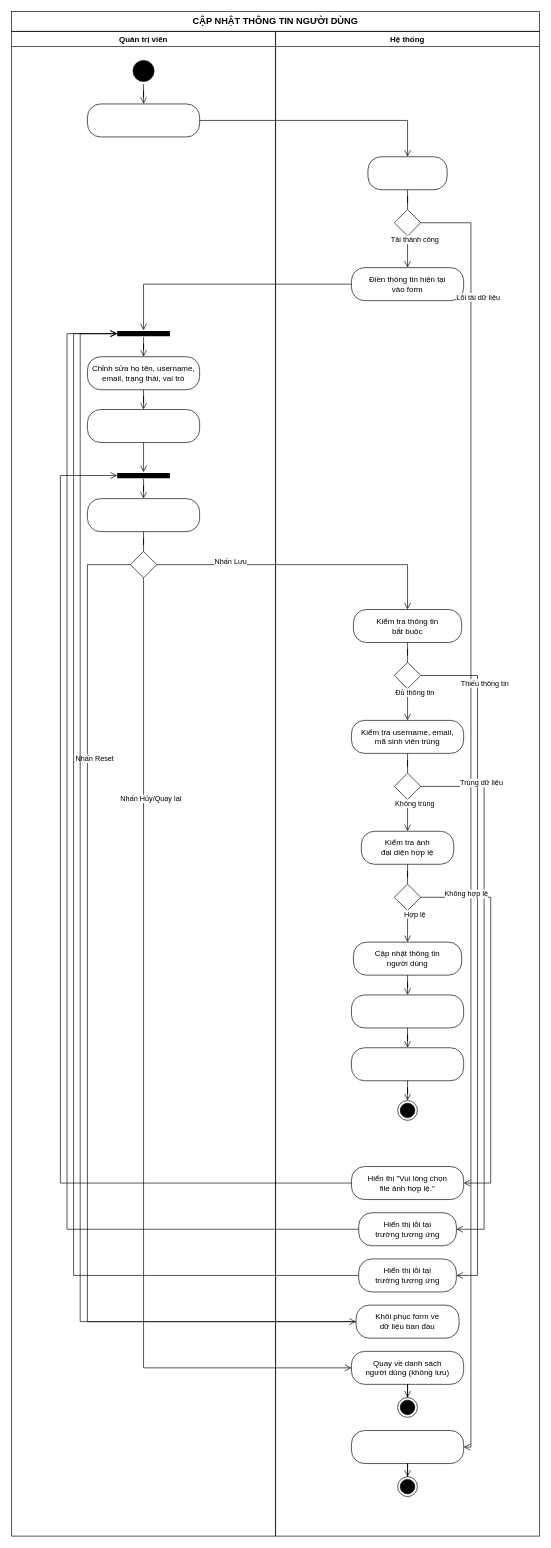
Some shapes in this 551 by 1548 pixel diagram are drawn without their labels. Here are the shapes that lost their labels. From the top down, the centre of each, then its label:
(143,120): Nhấn "Sửa" trong menu hành động của người dùng
(407,173): Tải dữ liệu người dùng
(143,426): Nhập mật khẩu mới nếu cần đổi mật khẩu
(143,515): Chỉnh sửa mã sinh viên, khoa, ngành, lớp hoặc ảnh đại diện nếu cần
(407,1011): Hiển thị toast "Lưu thông tin người dùng thành công."
(407,1064): Chuyển về màn hình "Quản lý người dùng"
(407,1447): Hiển thị "Không thể tải dữ liệu người dùng." và quay về danh sách
